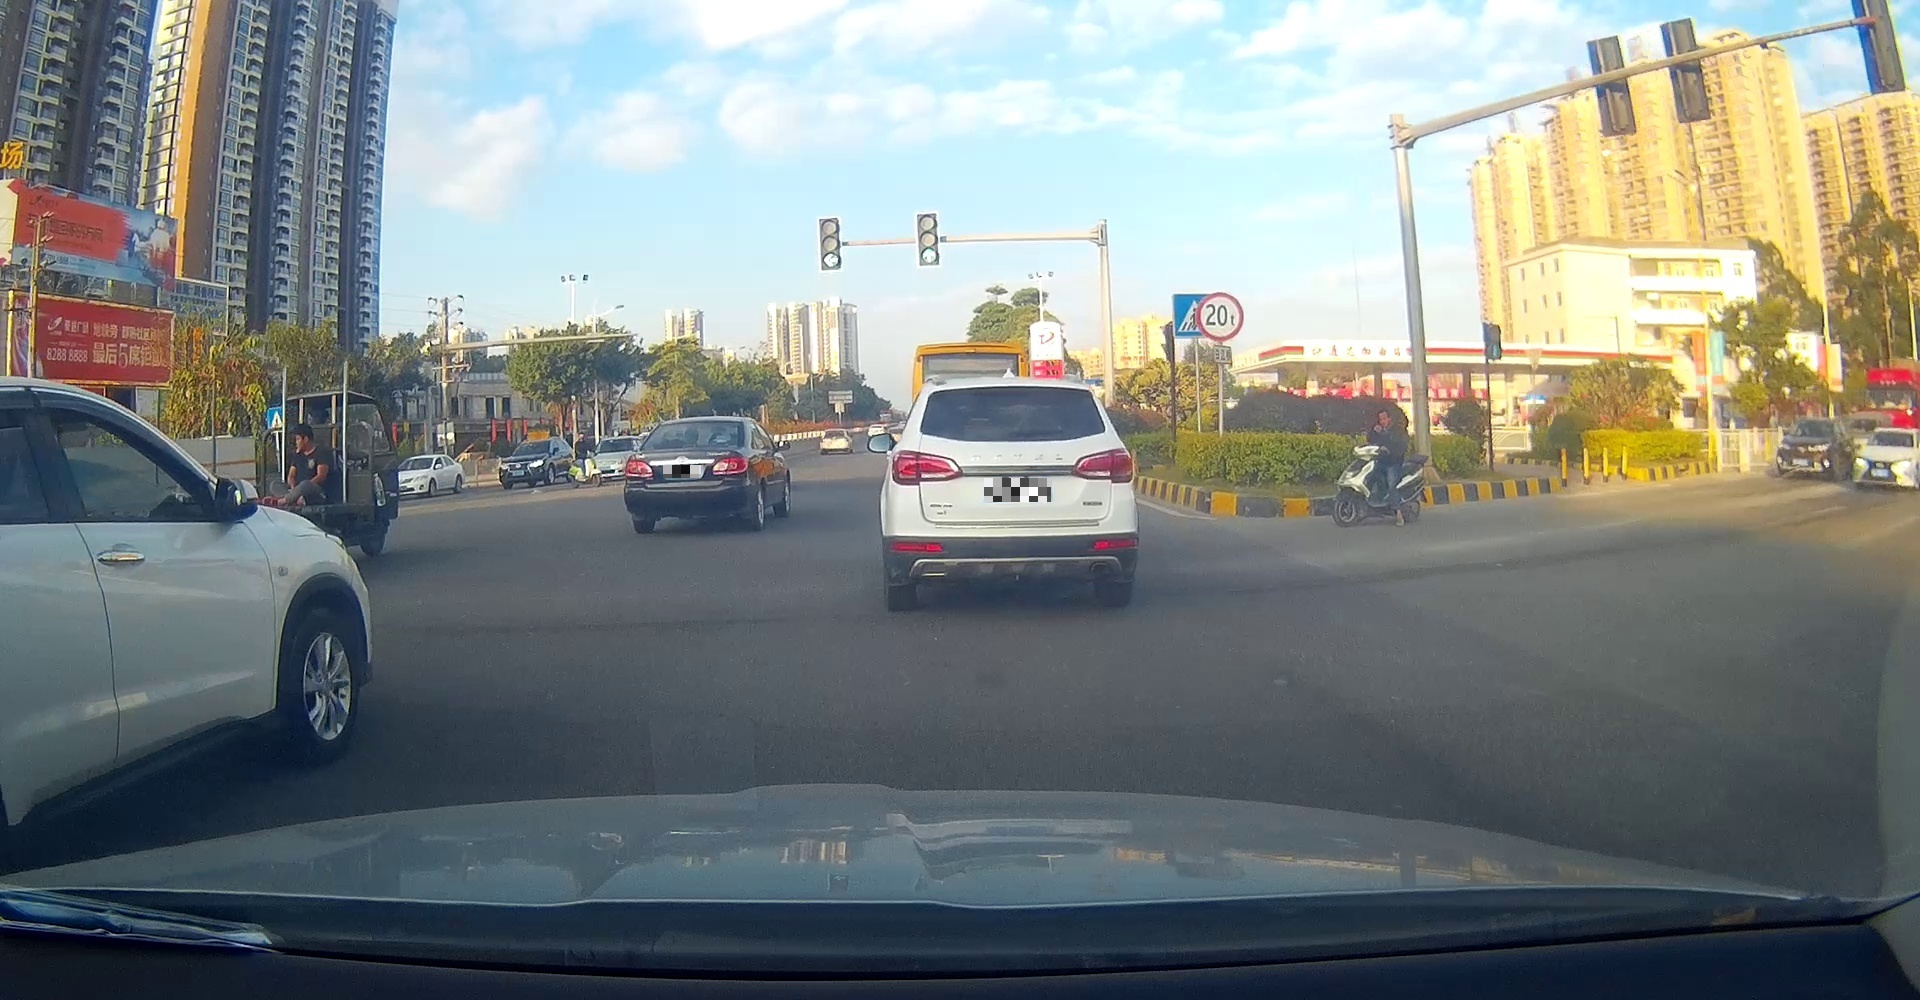L_light: (891, 451, 964, 485), (623, 458, 654, 477)
R_light: (1070, 448, 1133, 484), (712, 456, 749, 475)
T_light: (987, 387, 1041, 391), (682, 443, 697, 448)
day-no: (880, 374, 1139, 612), (623, 416, 753, 533)
plate_1: (663, 464, 701, 478)
plate_2: (984, 478, 1051, 503)
